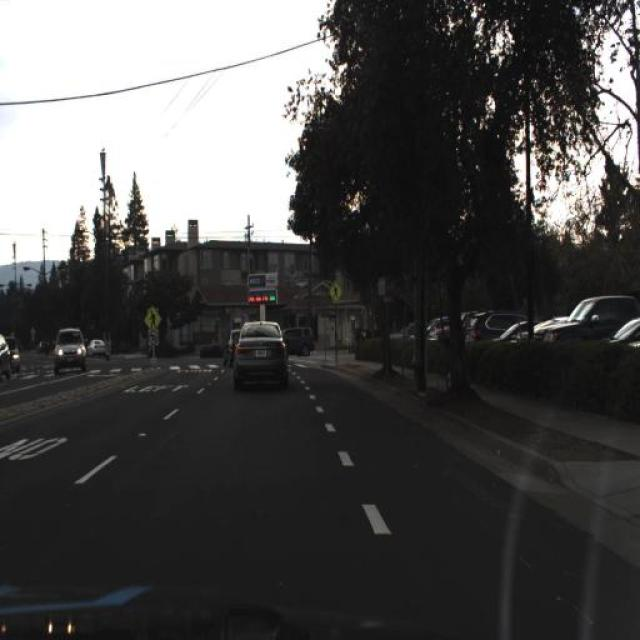car: (532, 290, 638, 346), (216, 314, 278, 394), (464, 305, 522, 344), (50, 322, 86, 377), (217, 310, 246, 372), (285, 322, 319, 362), (84, 334, 110, 364)
